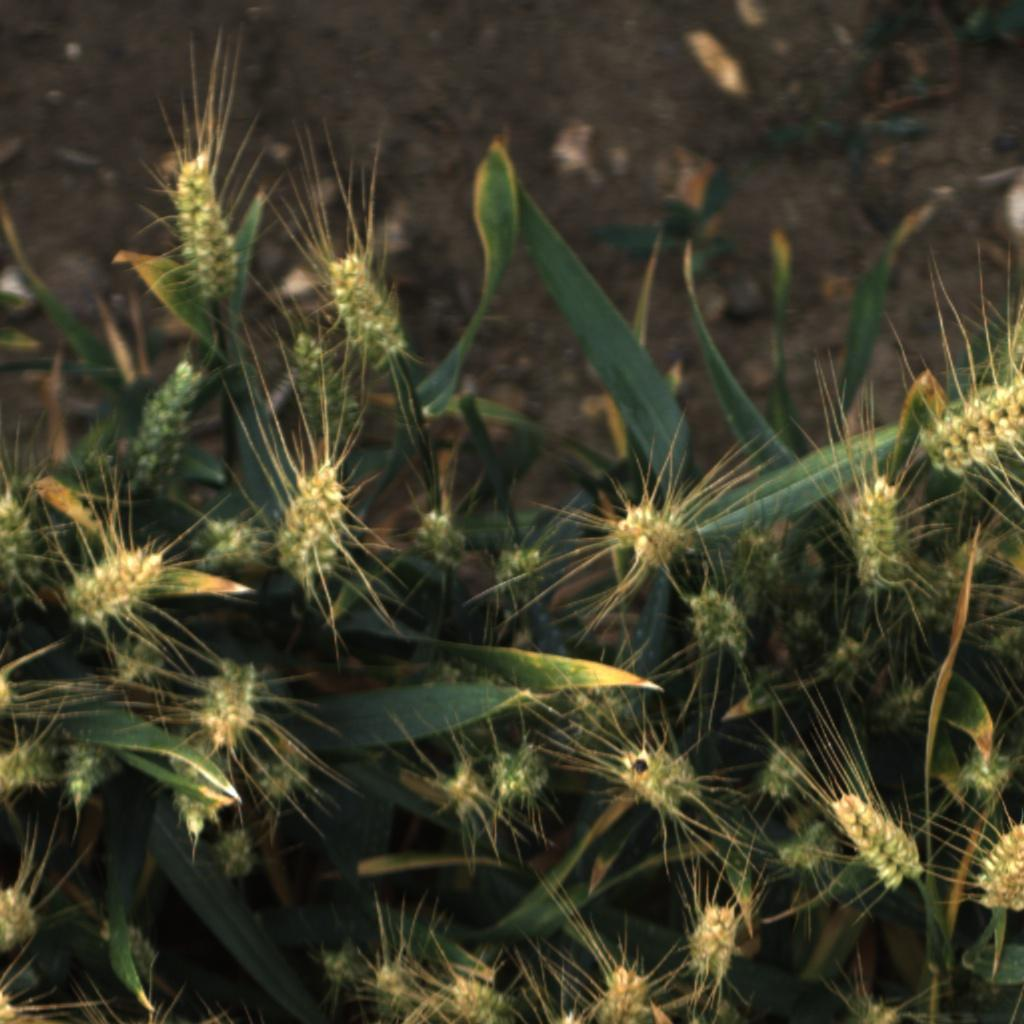0-0: (164, 147, 252, 302), (827, 783, 936, 894), (127, 355, 213, 483), (272, 463, 352, 597), (923, 378, 1024, 482), (322, 248, 409, 365), (285, 321, 360, 449), (66, 542, 169, 625), (841, 476, 906, 596), (615, 740, 707, 815), (919, 531, 988, 626), (610, 499, 697, 573), (920, 468, 988, 561), (195, 656, 263, 748), (970, 809, 1024, 920), (55, 409, 123, 497), (679, 896, 742, 987), (678, 585, 750, 661), (192, 506, 267, 575), (405, 503, 475, 576), (491, 738, 560, 806), (164, 759, 218, 845), (561, 687, 636, 746), (749, 737, 812, 805), (863, 682, 926, 749), (769, 818, 838, 877), (733, 514, 774, 613), (595, 954, 652, 1024), (448, 973, 525, 1024), (50, 752, 111, 816), (0, 488, 40, 585), (365, 949, 433, 1005), (205, 820, 266, 881), (954, 742, 1016, 802), (821, 635, 879, 699), (0, 878, 49, 952), (0, 739, 59, 800), (253, 748, 315, 806), (773, 601, 834, 658), (438, 753, 490, 819), (493, 547, 548, 606), (118, 912, 163, 982), (311, 939, 367, 991), (109, 636, 165, 687), (980, 619, 1023, 669), (845, 992, 909, 1024), (462, 662, 513, 696), (422, 654, 466, 691), (764, 550, 789, 606), (708, 996, 749, 1024), (0, 669, 20, 717), (0, 987, 25, 1023)
